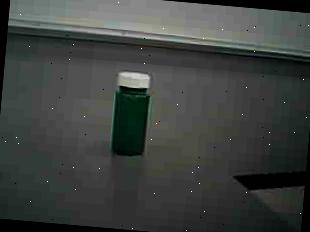Bottle C: (101, 66, 164, 166)
